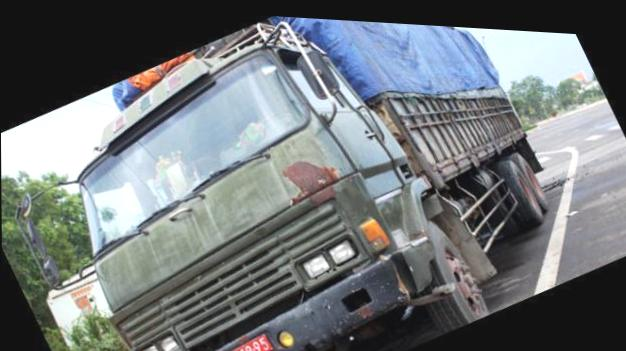License_Plate: (213, 327, 280, 351)
